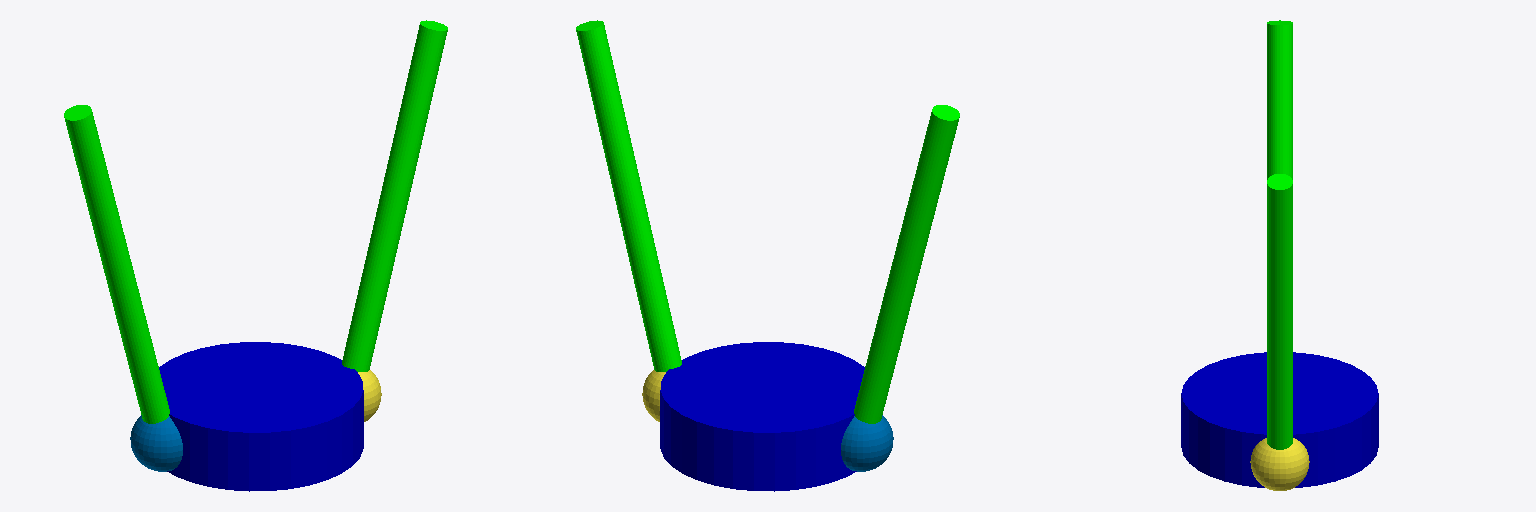
URDF robot description (gripper_2f_1j):
<?xml version='1.0' encoding='UTF-8'?>
<robot name="gripper_2f_1j">
  <link name="palm">
    <inertial>
      <origin xyz="0.0 0.0 0.0" rpy="0.0 -0.0 0.0"/>
      <mass value="1.0"/>
      <inertia ixx="1.0" ixy="0.0" ixz="0.0" iyy="1.0" iyz="0.0" izz="1.0"/>
    </inertial>
    <visual>
      <geometry>
        <cylinder radius="0.05" length="0.03"/>
      </geometry>
      <material name="blue"/>
      <origin xyz="0.0 0.0 0.0" rpy="0.0 -0.0 0.0"/>
    </visual>
    <collision>
      <geometry>
        <cylinder radius="0.05" length="0.03"/>
      </geometry>
      <origin xyz="0.0 0.0 0.0" rpy="0.0 0.0 0.0"/>
    </collision>
  </link>
  <link name="f11">
    <inertial>
      <origin xyz="0.0 0.0 0.0" rpy="0.0 -0.0 0.0"/>
      <mass value="1.0"/>
      <inertia ixx="1.0" ixy="0.0" ixz="0.0" iyy="1.0" iyz="0.0" izz="1.0"/>
    </inertial>
    <visual>
      <geometry>
        <cylinder radius="0.006650004318051562" length="0.18357451849558315"/>
      </geometry>
      <material name="green"/>
      <origin xyz="0.0 0.0 0.09178725924779157" rpy="0.0 -0.0 0.0"/>
    </visual>
    <collision>
      <geometry>
        <cylinder radius="0.006650004318051562" length="0.18357451849558315"/>
      </geometry>
      <origin xyz="0.0 0.0 0.05" rpy="0.0 0.0 0.0"/>
    </collision>
  </link>
  <link name="f21">
    <inertial>
      <origin xyz="0.0 0.0 0.0" rpy="0.0 -0.0 0.0"/>
      <mass value="1.0"/>
      <inertia ixx="1.0" ixy="0.0" ixz="0.0" iyy="1.0" iyz="0.0" izz="1.0"/>
    </inertial>
    <visual>
      <geometry>
        <cylinder radius="0.006650004318051562" length="0.18357451849558315"/>
      </geometry>
      <material name="green"/>
      <origin xyz="0.0 0.0 0.09178725924779157" rpy="0.0 -0.0 0.0"/>
    </visual>
    <collision>
      <geometry>
        <cylinder radius="0.006650004318051562" length="0.18357451849558315"/>
      </geometry>
      <origin xyz="0.0 0.0 0.05" rpy="0.0 0.0 0.0"/>
    </collision>
  </link>
  <link name="f11_base">
    <inertial>
      <origin xyz="0.0 0.0 0.0" rpy="0.0 -0.0 0.0"/>
      <mass value="1.0"/>
      <inertia ixx="1.0" ixy="0.0" ixz="0.0" iyy="1.0" iyz="0.0" izz="1.0"/>
    </inertial>
    <visual>
      <geometry>
        <sphere radius="0.015"/>
      </geometry>
      <origin xyz="0.0 0.0 0.0" rpy="0.0 -0.0 0.0"/>
    </visual>
  </link>
  <link name="f21_base">
    <inertial>
      <origin xyz="0.0 0.0 0.0" rpy="0.0 -0.0 0.0"/>
      <mass value="1.0"/>
      <inertia ixx="1.0" ixy="0.0" ixz="0.0" iyy="1.0" iyz="0.0" izz="1.0"/>
    </inertial>
    <visual>
      <geometry>
        <sphere radius="0.015"/>
      </geometry>
      <origin xyz="0.0 0.0 0.0" rpy="0.0 -0.0 0.0"/>
    </visual>
  </link>
  <joint name="f11_joint" type="revolute">
    <dynamics damping="100.0" friction="1.0"/>
    <limit effort="30.0" velocity="2.0" lower="-0.6" upper="0.25"/>
    <parent link="f11_base"/>
    <child link="f11"/>
    <axis xyz="0. 1. 0."/>
    <origin xyz="0.0 0.0 0.0" rpy="0.0 0.25 0.0"/>
  </joint>
  <joint name="f21_joint" type="revolute">
    <dynamics damping="100.0" friction="1.0"/>
    <limit effort="30.0" velocity="2.0" lower="-0.6" upper="0.25"/>
    <parent link="f21_base"/>
    <child link="f21"/>
    <axis xyz=" 0. -1.  0."/>
    <origin xyz="0.0 0.0 0.0" rpy="0.0 -0.25 0.0"/>
  </joint>
  <joint name="f11_base_joint" type="fixed">
    <parent link="palm"/>
    <child link="f11_base"/>
    <axis xyz="1. 0. 0."/>
    <origin xyz="0.05 0.0 0.0" rpy="0.0 0.0 0.0"/>
  </joint>
  <joint name="f21_base_joint" type="fixed">
    <parent link="palm"/>
    <child link="f21_base"/>
    <axis xyz="1. 0. 0."/>
    <origin xyz="-0.05 -0.0 0.0" rpy="0.0 0.0 0.0"/>
  </joint>
  <material name="blue">
    <color rgba="0.  0.  0.8 1. "/>
  </material>
  <material name="green">
    <color rgba="0. 1. 0. 1."/>
  </material>
</robot>

--- Render facts (derived) ---
Views: 3 orthographic renders of the robot side by side, from view 1: azimuth 30°, elevation 25°; view 2: azimuth 150°, elevation 25°; view 3: azimuth 270°, elevation 25°.
Robot: gripper_2f_1j — 5 links, 4 joints (2 revolute, 2 fixed); root link palm; default pose: all joints at 0.
Links seen in each view (by area): view 1: palm, f11, f21, f21_base, f11_base; view 2: palm, f11, f21, f21_base, f11_base; view 3: palm, f11, f21, f11_base.
Link boxes in pixels (bbox=[...]): palm: bbox=[159, 342, 363, 491]; f11: bbox=[342, 20, 447, 371]; f21: bbox=[64, 105, 169, 423]; f21_base: bbox=[130, 415, 182, 471]; f11_base: bbox=[358, 370, 381, 421]; palm: bbox=[660, 342, 864, 491]; f11: bbox=[576, 20, 681, 371]; f21: bbox=[854, 105, 959, 423]; f21_base: bbox=[841, 415, 893, 471]; f11_base: bbox=[642, 370, 665, 421]; palm: bbox=[1181, 352, 1378, 487]; f11: bbox=[1267, 174, 1292, 449]; f21: bbox=[1267, 20, 1292, 179]; f11_base: bbox=[1250, 438, 1309, 490].
Bounding box of the posed robot: 0.2037 × 0.1 × 0.1945 m (x, y, z).
Geometry: primitives only (box / cylinder / sphere), no mesh files.